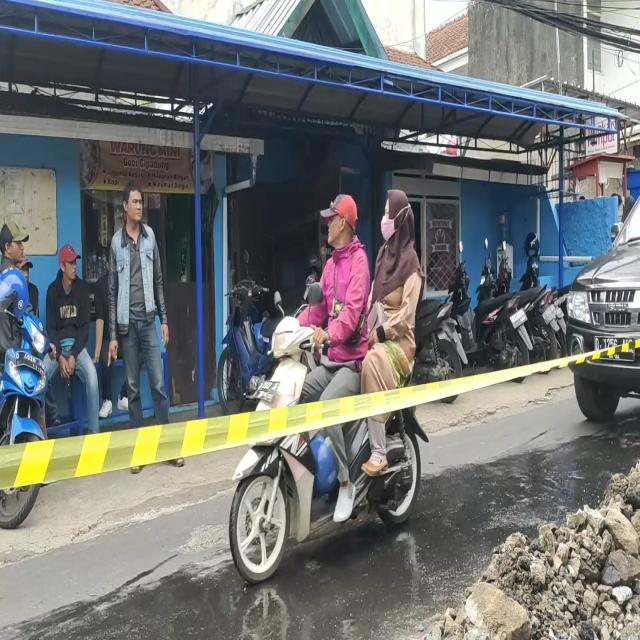no-helmet: (325, 194, 356, 249), (382, 184, 409, 238)
